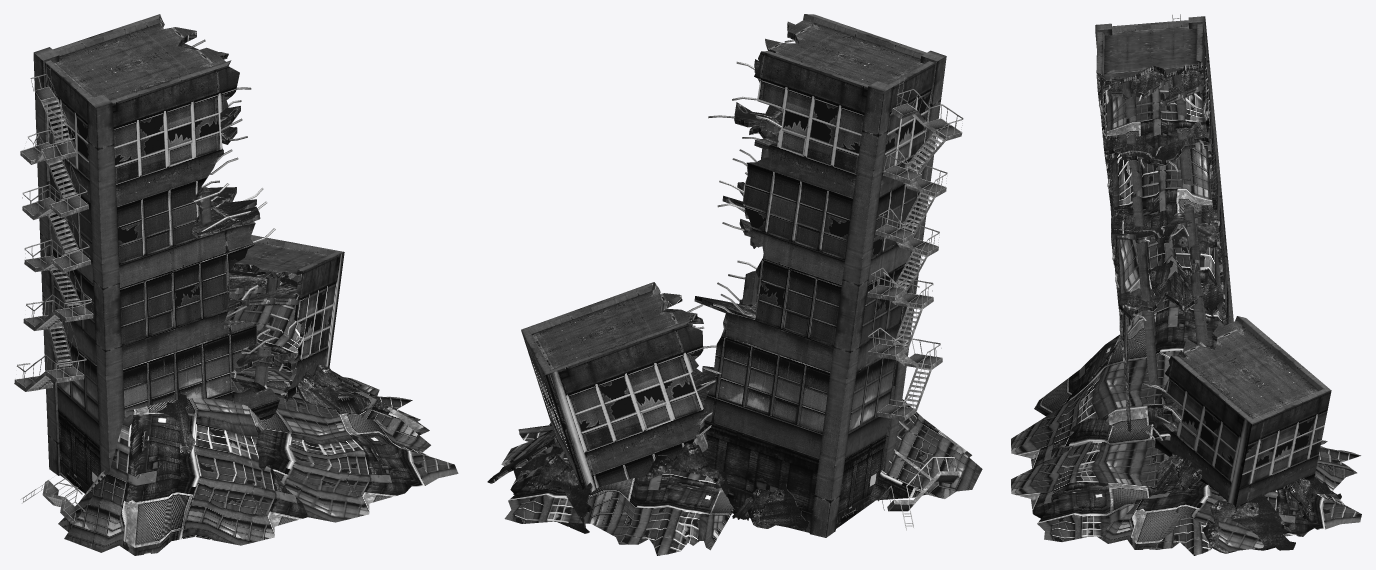
The model's file is collapsed_industrial.glb.
3 views of the same model, side by side, from view 1: azimuth 30°, elevation 25°; view 2: azimuth 150°, elevation 25°; view 3: azimuth 270°, elevation 25° (orthographic). The views are drawn at different scales.
Parts seen in each view (by area): view 1: Destroyed_Industrial; view 2: Destroyed_Industrial; view 3: Destroyed_Industrial.
Part boxes in pixels (left/top/right/bottom): Destroyed_Industrial: left=14, top=14, right=458, bottom=555; Destroyed_Industrial: left=487, top=14, right=982, bottom=555; Destroyed_Industrial: left=1011, top=14, right=1361, bottom=555.
Bounding box in the file's own units: 23.12 × 24.42 × 19.7.
Materials: 3 (3 with a texture image).
